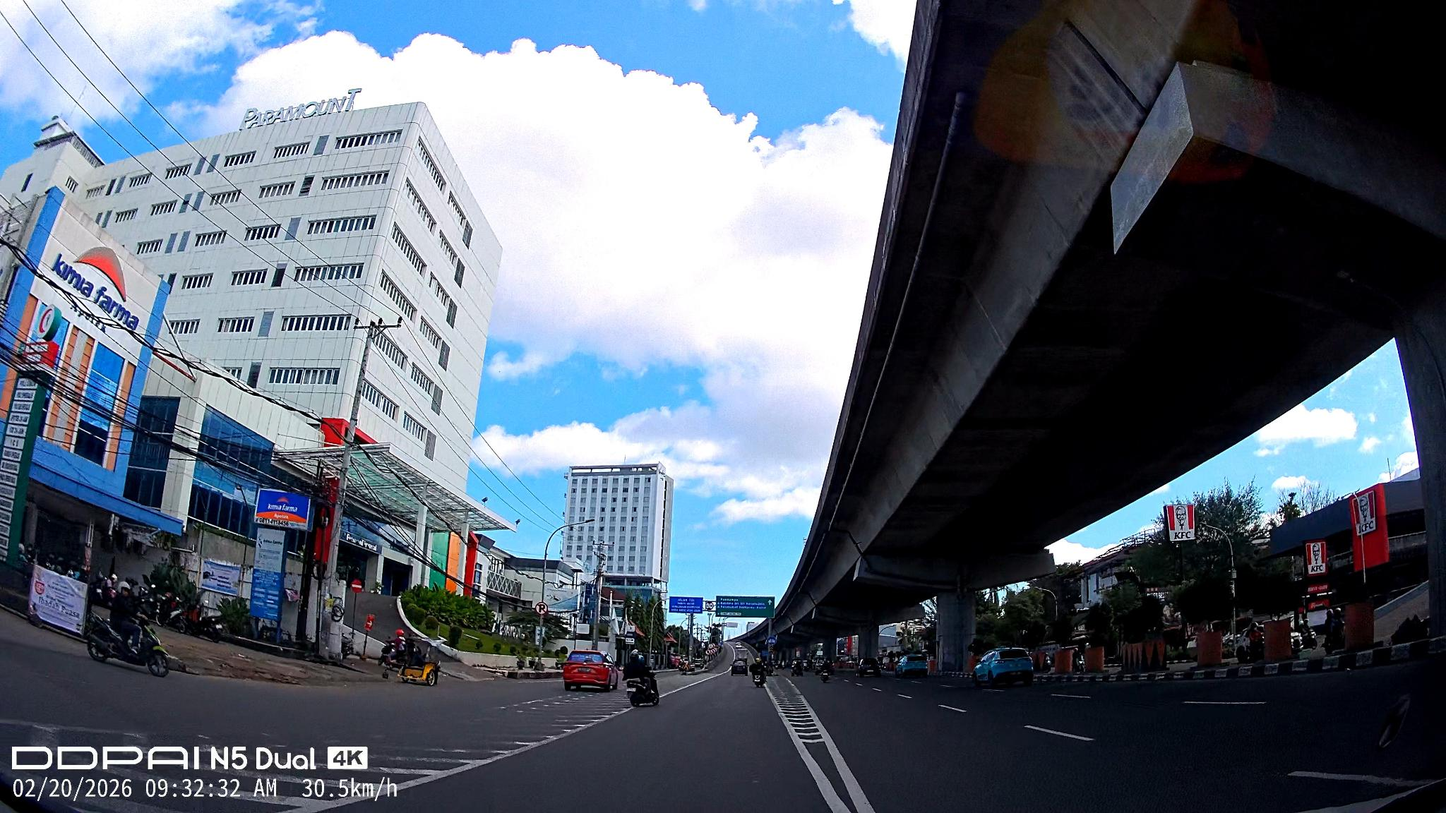rambu_teks: (716, 596, 775, 618), (669, 596, 703, 614)
